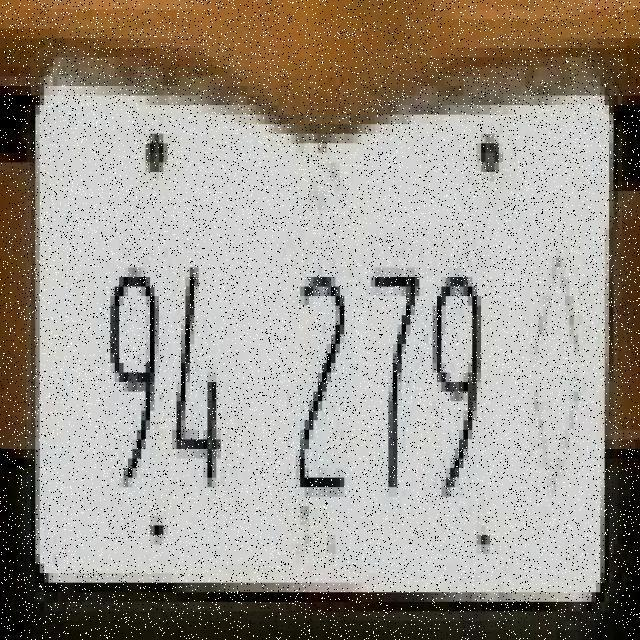LicensePlate: (38, 86, 614, 600)
